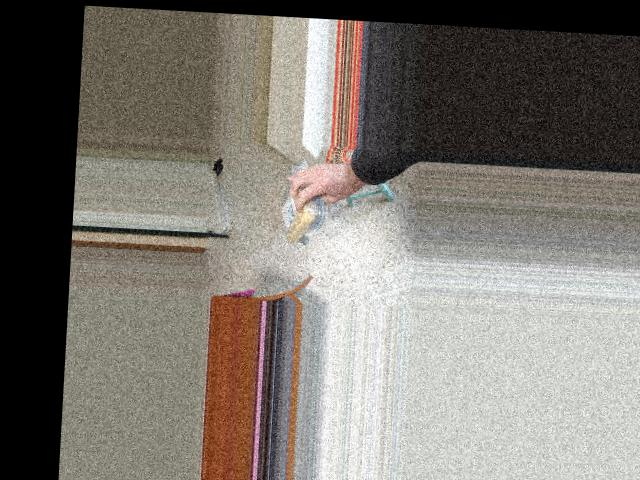cheese: (280, 169, 320, 245)
